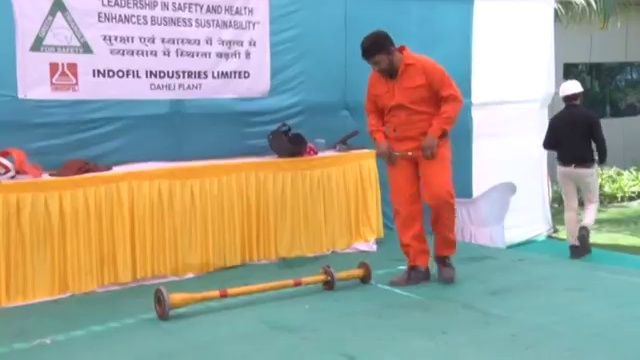helmet: (557, 79, 585, 99)
helmet_off: (360, 30, 401, 79)
helmet_on: (555, 78, 585, 109)
person: (358, 29, 465, 286), (543, 79, 609, 259)
